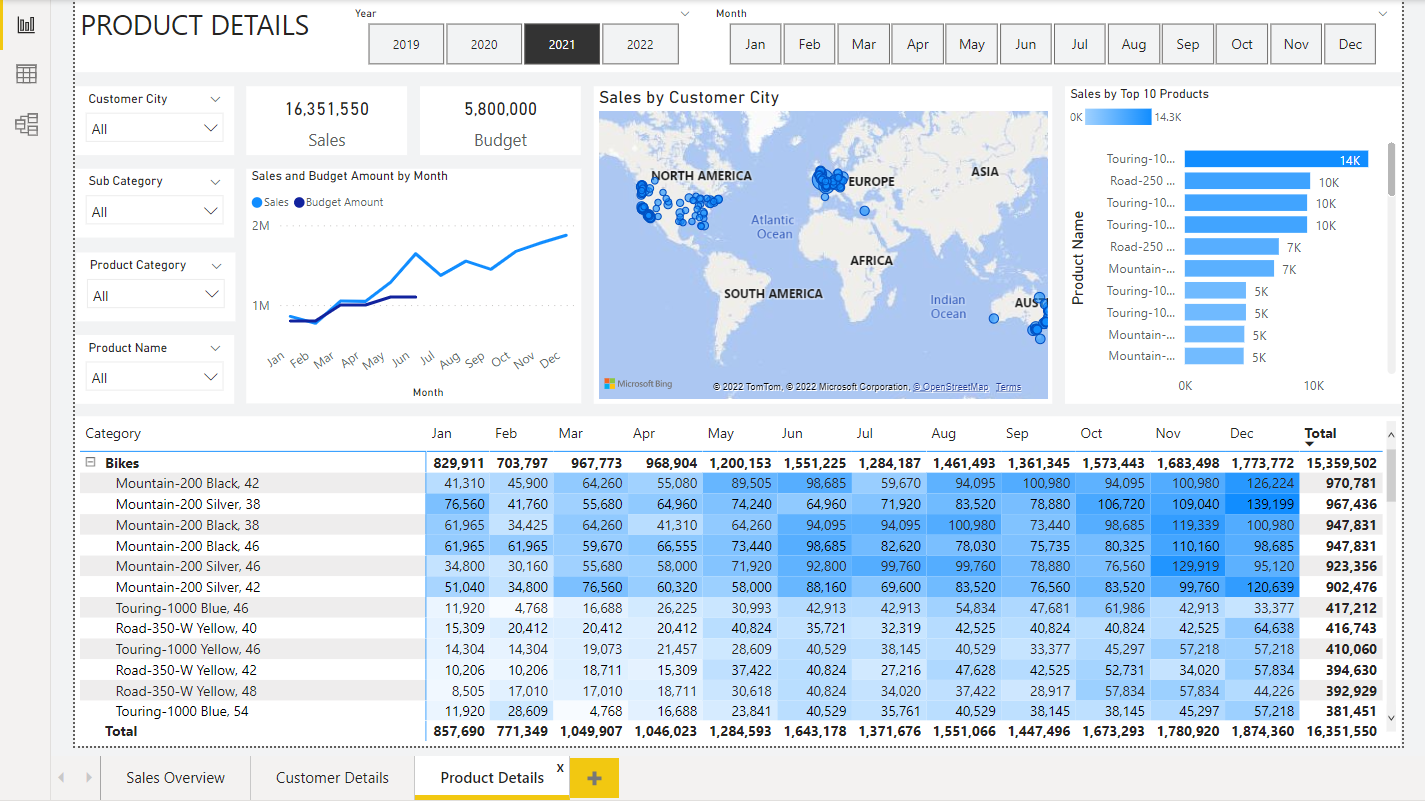

The page's visual inventory and layout, read from the dashboard file:
{"tool":"powerbi","page":{"name":"Product Details","canvas":[1280,720],"ordinal":2},"visuals":[{"type":"textbox","box":[0,0,1280,69.3],"z":0},{"type":"slicer","fields":{"Values":["Dim_Customer.Customer City"]},"box":[0,82.9,153.5,66.6],"z":1000},{"type":"slicer","fields":{"Values":["Dim_Product.Sub Category"]},"box":[0,163.1,153.5,66.6],"z":2000},{"type":"slicer","fields":{"Values":["Dim_Product.Product Category"]},"box":[1.4,243.2,153.5,66.6],"z":3000},{"type":"slicer","fields":{"Values":["Dim_Product.Product Name"]},"box":[0,323.4,153.5,66.6],"z":4000},{"type":"slicer","title":"Year","fields":{"Values":["Dim_Calender.Date.Variation.Date Hierarchy.Year"]},"box":[256.8,1.4,349.2,67.9],"z":5000},{"type":"slicer","title":"Month","fields":{"Values":["Dim_Calender.MonthShort"]},"box":[606,1.4,674,67.9],"z":6000},{"type":"lineChart","fields":{"Category":["Dim_Calender.MonthShort"],"Y":["Key Measures.Sales","Key Measures.Budget Amount"]},"box":[165.2,162.8,323.2,226.7],"z":7000},{"type":"barChart","title":"Sales by Top 10 Products","fields":{"Y":["Key Measures.Sales"],"Category":["Dim_Product.Product Name"]},"box":[955.2,83.2,324.4,306.3],"z":8000},{"type":"map","fields":{"Category":["Dim_Customer.Customer City"],"Size":["Key Measures.Sales"]},"box":[500.5,83.2,442.6,306.3],"z":9000},{"type":"card","fields":{"Values":["Key Measures.Sales"]},"box":[165.2,83.2,155.6,66.3],"z":10000},{"type":"card","fields":{"Values":["Key Measures.Budget Amount"]},"box":[332.9,83.2,155.6,66.3],"z":11000},{"type":"pivotTable","fields":{"Rows":["Dim_Product.Product Category","Dim_Product.Product Name"],"Columns":["Dim_Calender.MonthShort"],"Values":["Key Measures.Sales"]},"box":[0,401.6,1279.6,318.4],"z":12000}]}

Visuals, with their boxes on the page's 1280x720 design canvas (x1, y1, x2, y2). These are canvas units, not pixel positions in the 1425x801 screenshot, which may show the page scaled, cropped or inside an application window:
textbox: {"left": 0, "top": 0, "right": 1280, "bottom": 69}
slicer - Dim_Customer.Customer City: {"left": 0, "top": 83, "right": 154, "bottom": 150}
slicer - Dim_Product.Sub Category: {"left": 0, "top": 163, "right": 154, "bottom": 230}
slicer - Dim_Product.Product Category: {"left": 1, "top": 243, "right": 155, "bottom": 310}
slicer - Dim_Product.Product Name: {"left": 0, "top": 323, "right": 154, "bottom": 390}
"Year" slicer: {"left": 257, "top": 1, "right": 606, "bottom": 69}
"Month" slicer: {"left": 606, "top": 1, "right": 1280, "bottom": 69}
lineChart - Dim_Calender.MonthShort x Key Measures.Sales: {"left": 165, "top": 163, "right": 488, "bottom": 390}
"Sales by Top 10 Products" barChart: {"left": 955, "top": 83, "right": 1280, "bottom": 390}
map - Dim_Customer.Customer City x Key Measures.Sales: {"left": 500, "top": 83, "right": 943, "bottom": 390}
card - Key Measures.Sales: {"left": 165, "top": 83, "right": 321, "bottom": 150}
card - Key Measures.Budget Amount: {"left": 333, "top": 83, "right": 488, "bottom": 150}
pivotTable - Dim_Product.Product Category x Dim_Product.Product Name: {"left": 0, "top": 402, "right": 1280, "bottom": 720}
